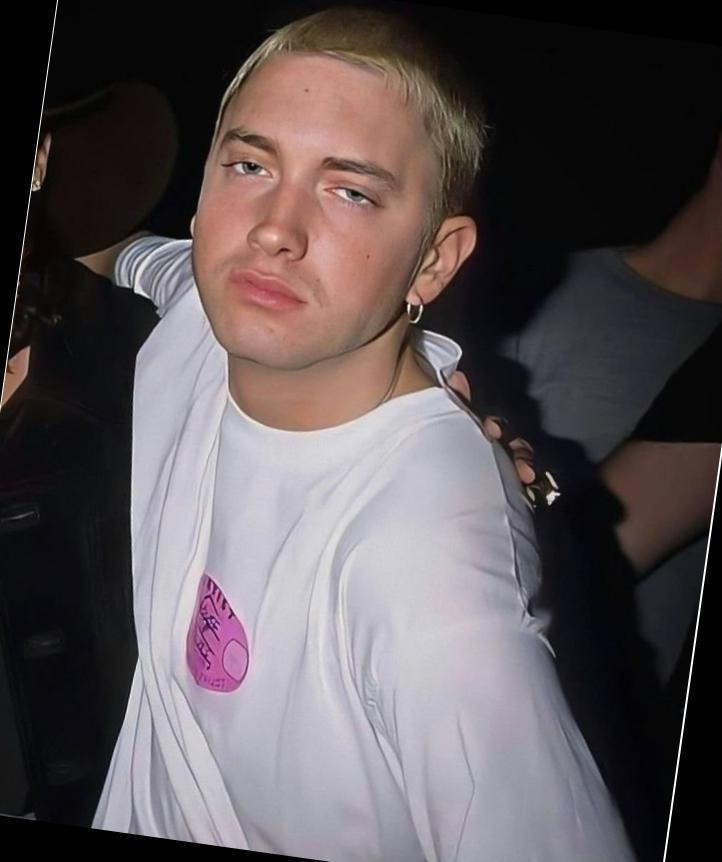Drunk: (197, 70, 414, 369)
